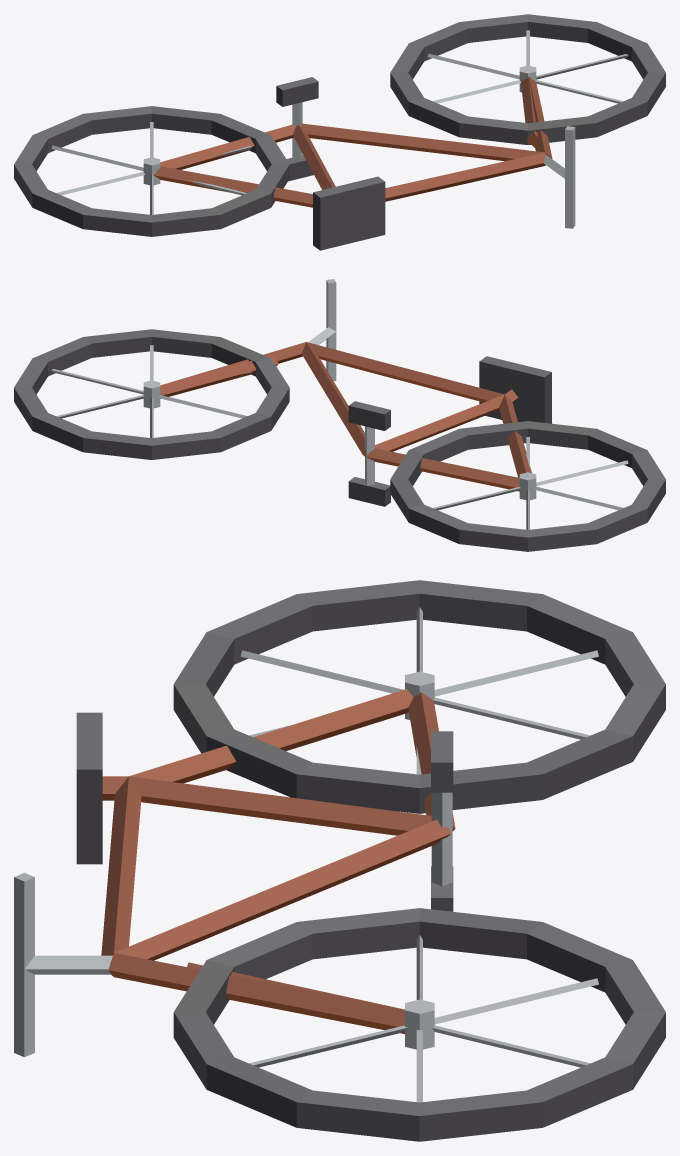
Rendered from bicycle.glb.
3 views of the same model, one above another, from view 1: azimuth 30°, elevation 25°; view 2: azimuth 150°, elevation 25°; view 3: azimuth 270°, elevation 25° (orthographic). The views are drawn at different scales.
Parts seen in each view (by area): view 1: bicycle; view 2: bicycle; view 3: bicycle.
Boxes of the visible parts, x1,y1,x2,y2 form: bicycle: (14, 14, 665, 250); bicycle: (14, 279, 665, 551); bicycle: (14, 580, 665, 1141).
Size of the model in its own units: 1.7 by 0.26 by 0.874.
